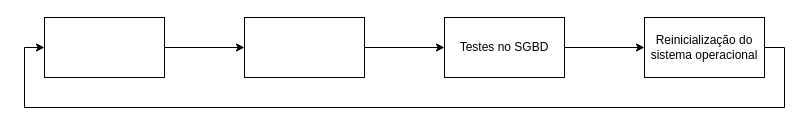
Some shapes in this 810 by 133 pixel diagram are drawn without their labels. The centre of each missing label's shape, as x and y in pixels:
"Execução do sistema operacional" goes at (x=104, y=47).
"Instalação do SGBD" goes at (x=304, y=47).
